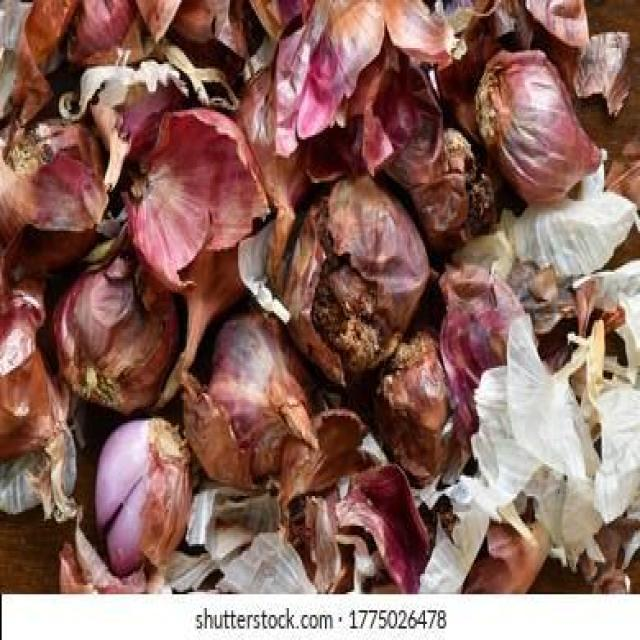Onion: (0, 0, 640, 594), (286, 185, 424, 377), (199, 308, 323, 478), (58, 252, 180, 412), (479, 46, 604, 194), (90, 416, 196, 571), (237, 64, 309, 288), (403, 122, 500, 262), (382, 329, 460, 480)
